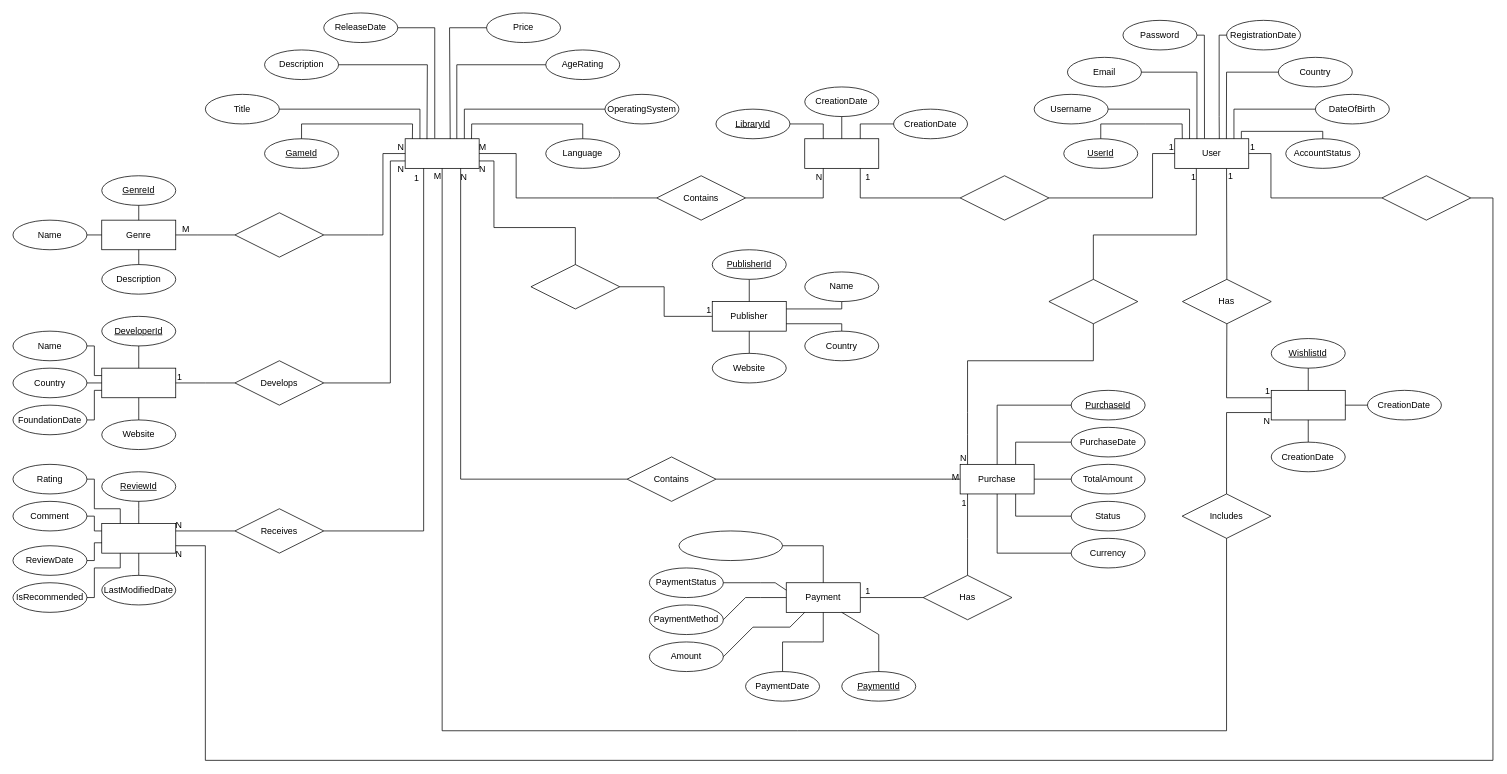
This 1507x774 diagram has some shape labels left out. Each missing label, with the centre of its shape:
"Belongs to" goes at (x=279, y=234).
"Developer" goes at (x=138, y=382).
"Game" goes at (x=441, y=153).
"Library" goes at (x=841, y=153).
"Makes" goes at (x=1093, y=301).
"Owns" goes at (x=1004, y=197).
"Publishes" goes at (x=575, y=286).
"Review" goes at (x=138, y=538).
"TransactionReference" goes at (x=730, y=545).
"Wishlist" goes at (x=1308, y=405).
"Writes" goes at (x=1426, y=197).
